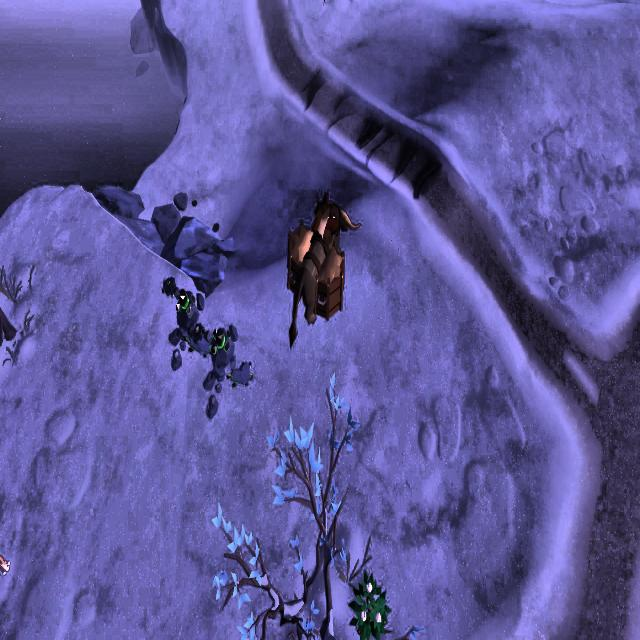fiber_t3: (348, 568, 388, 640)
